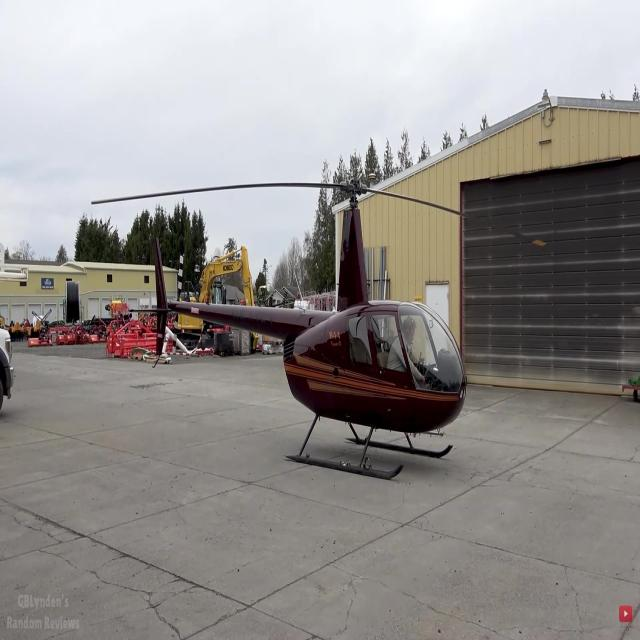CIV_HELO: (126, 180, 469, 487)
